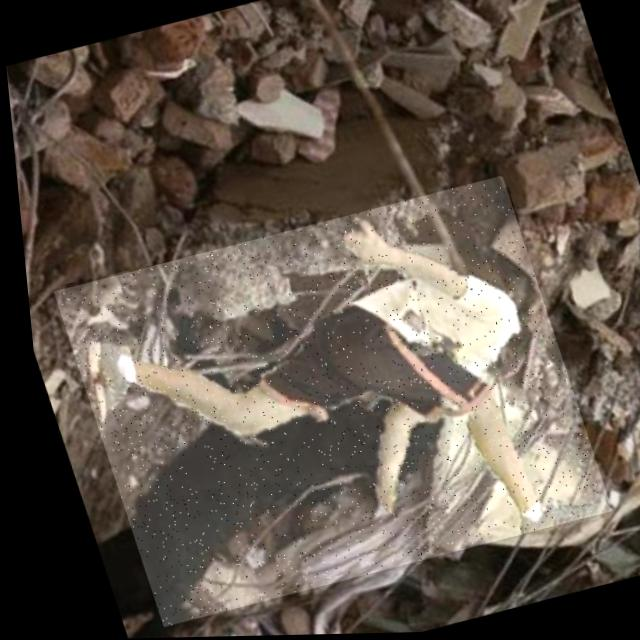Person in Rubble: (38, 176, 609, 629)
